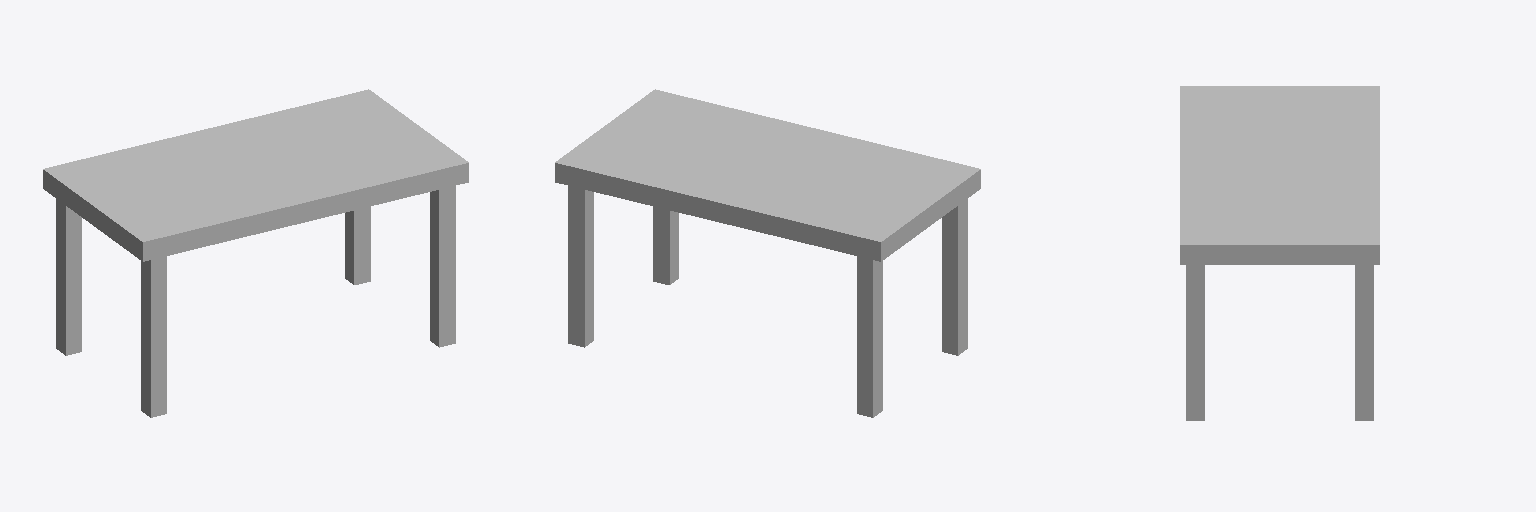
File: Table 1.obj
The picture shows the model from 3 angles: view 1: azimuth 30°, elevation 25°; view 2: azimuth 150°, elevation 25°; view 3: azimuth 270°, elevation 25°; orthographic projection.
Parts seen in each view (by area): view 1: Table_1; view 2: Table_1; view 3: Table_1.
Part boxes in pixels (left/top/right/bottom): Table_1: left=43, top=89, right=468, bottom=417; Table_1: left=555, top=89, right=980, bottom=417; Table_1: left=1180, top=86, right=1379, bottom=420.
Size of the model in its own units: 2 by 1.06 by 1.06.